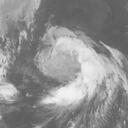cyclone: (33, 24, 119, 107)
